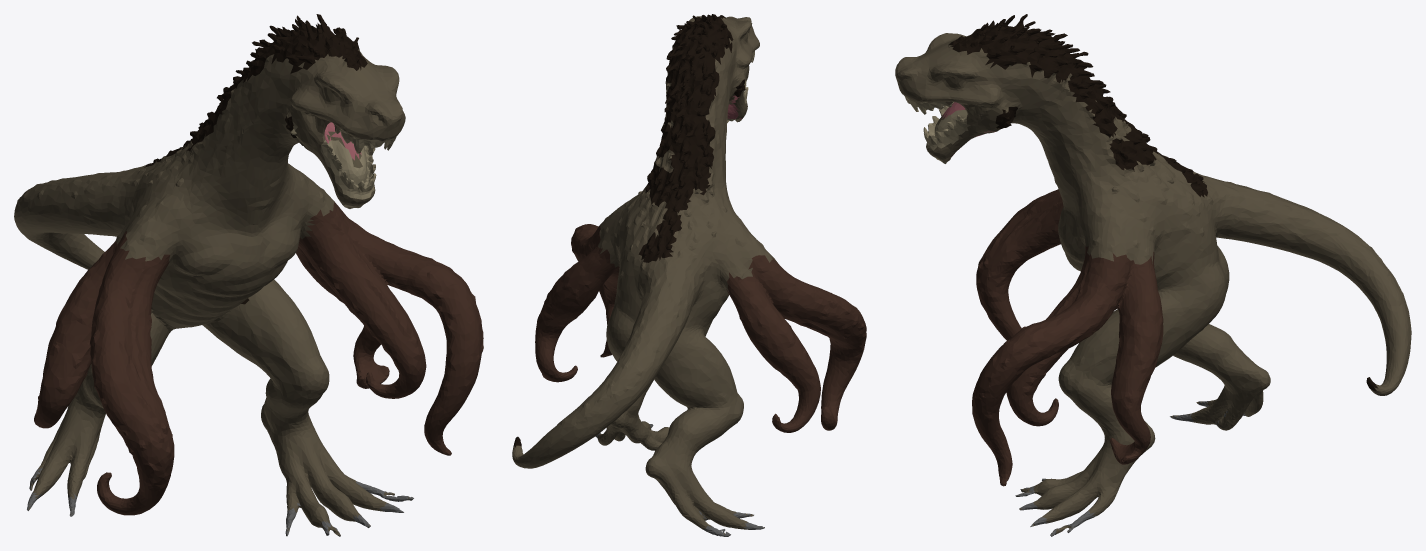
File: estrangulador.glb
3 renders of one model, left to right at view 1: azimuth 30°, elevation 25°; view 2: azimuth 150°, elevation 25°; view 3: azimuth 270°, elevation 25°, orthographic. The views are drawn at different scales.
Visible parts, largest first — view 1: tmpi_85lnov.ply; view 2: tmpi_85lnov.ply; view 3: tmpi_85lnov.ply.
Part boxes in pixels (x1=…): tmpi_85lnov.ply: x1=14, y1=14, x2=483, y2=536; tmpi_85lnov.ply: x1=512, y1=14, x2=866, y2=536; tmpi_85lnov.ply: x1=895, y1=14, x2=1411, y2=536.
Size of the model in its own units: 1.43 by 1.96 by 1.95.
